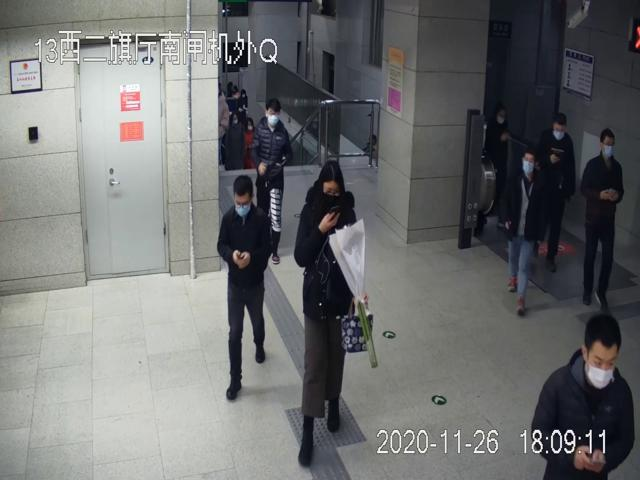person: (294, 161, 358, 464), (219, 176, 269, 400), (581, 126, 622, 309), (501, 148, 544, 319), (252, 98, 292, 266), (538, 113, 577, 273)
